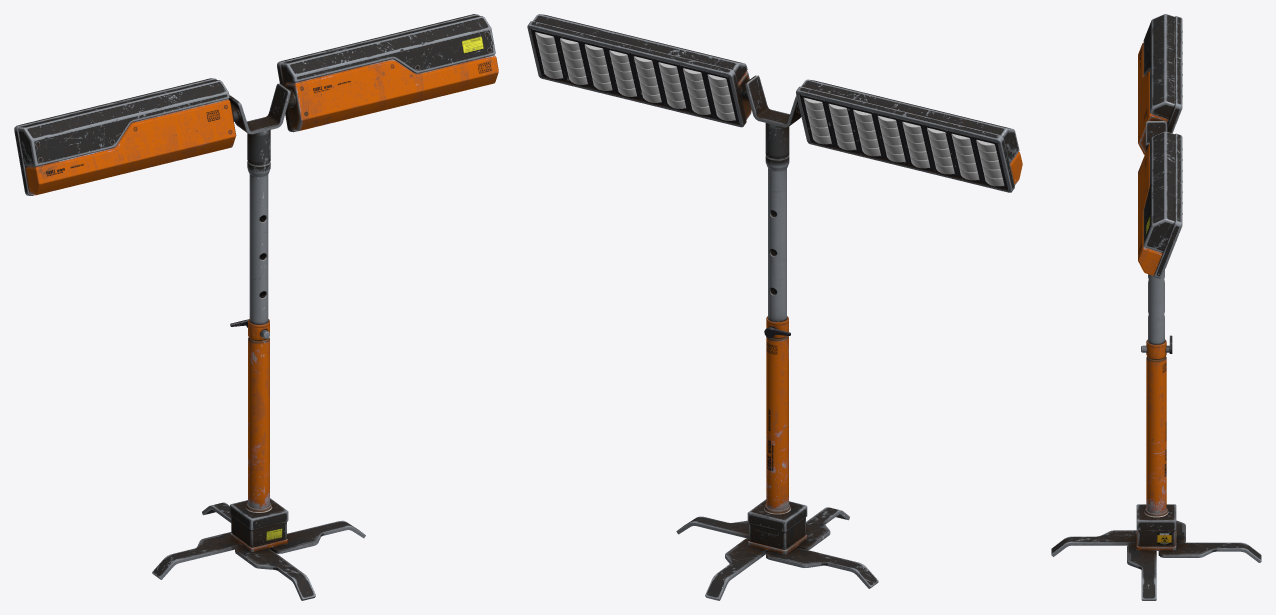
File: SM_Light_Style02.fbx
3 renders of one model, left to right at view 1: azimuth 30°, elevation 25°; view 2: azimuth 150°, elevation 25°; view 3: azimuth 270°, elevation 25°, orthographic. The views are drawn at different scales.
Visible parts, largest first — view 1: SM_Light_Style02_LOD0; view 2: SM_Light_Style02_LOD0; view 3: SM_Light_Style02_LOD0.
Part boxes in pixels (box(x1,y1,x2,y2)): SM_Light_Style02_LOD0: box(14, 14, 498, 600); SM_Light_Style02_LOD0: box(527, 14, 1022, 600); SM_Light_Style02_LOD0: box(1051, 14, 1261, 600).
Size of the model in its own units: 145 by 62.37 by 144.
2 materials, 1 textured.
